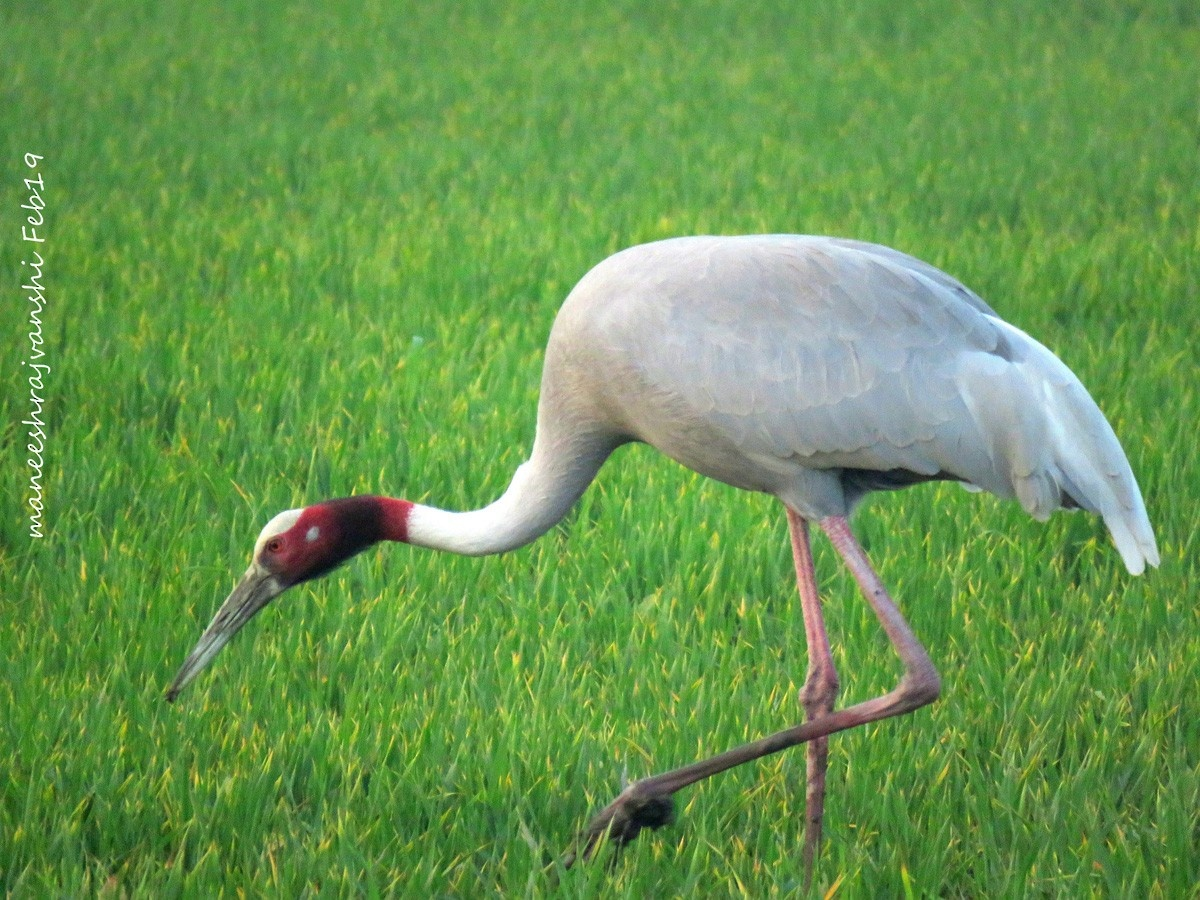crane: (163, 222, 1163, 857)
